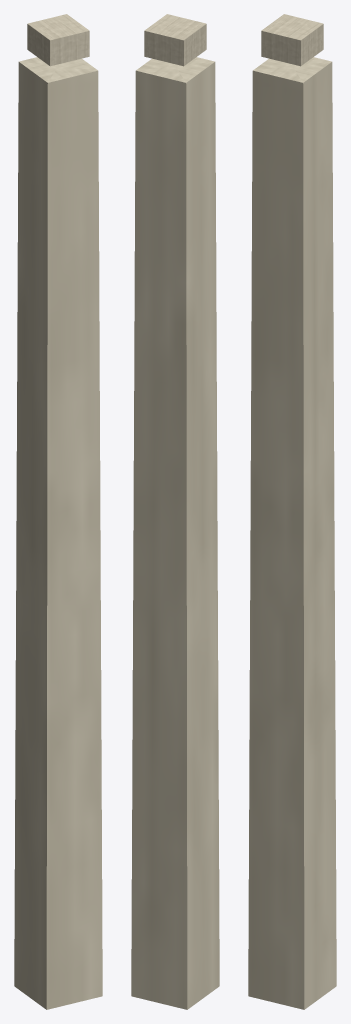
The model's file is house_02_porch_post.glb.
3 views of the same model, side by side, from view 1: azimuth 30°, elevation 25°; view 2: azimuth 150°, elevation 25°; view 3: azimuth 330°, elevation 25° (orthographic).
Parts seen in each view (by area): view 1: outdoor_house_02_porch_post; view 2: outdoor_house_02_porch_post; view 3: outdoor_house_02_porch_post.
Boxes of the visible parts, box(x1,y1,x2,y2) form: outdoor_house_02_porch_post: box(14, 14, 102, 1009); outdoor_house_02_porch_post: box(131, 14, 219, 1009); outdoor_house_02_porch_post: box(248, 14, 336, 1009).
Size of the model in its own units: 0.14 by 2.3 by 0.14.
1 material, 1 textured.
